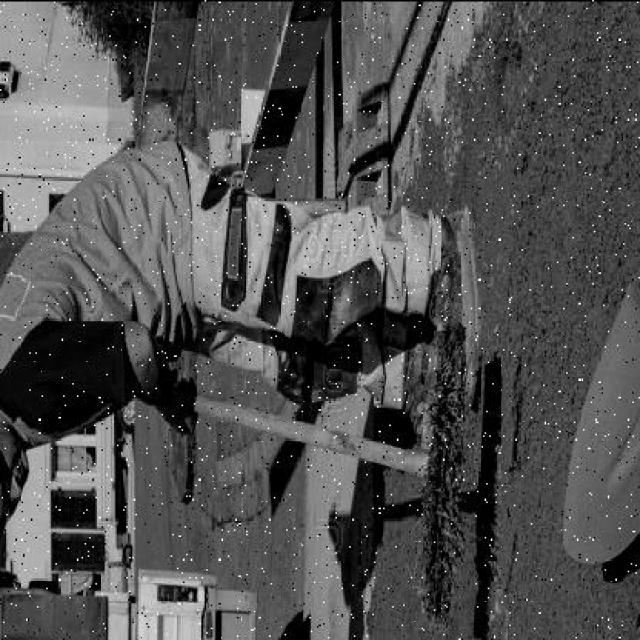shoes: (422, 196, 480, 401)
